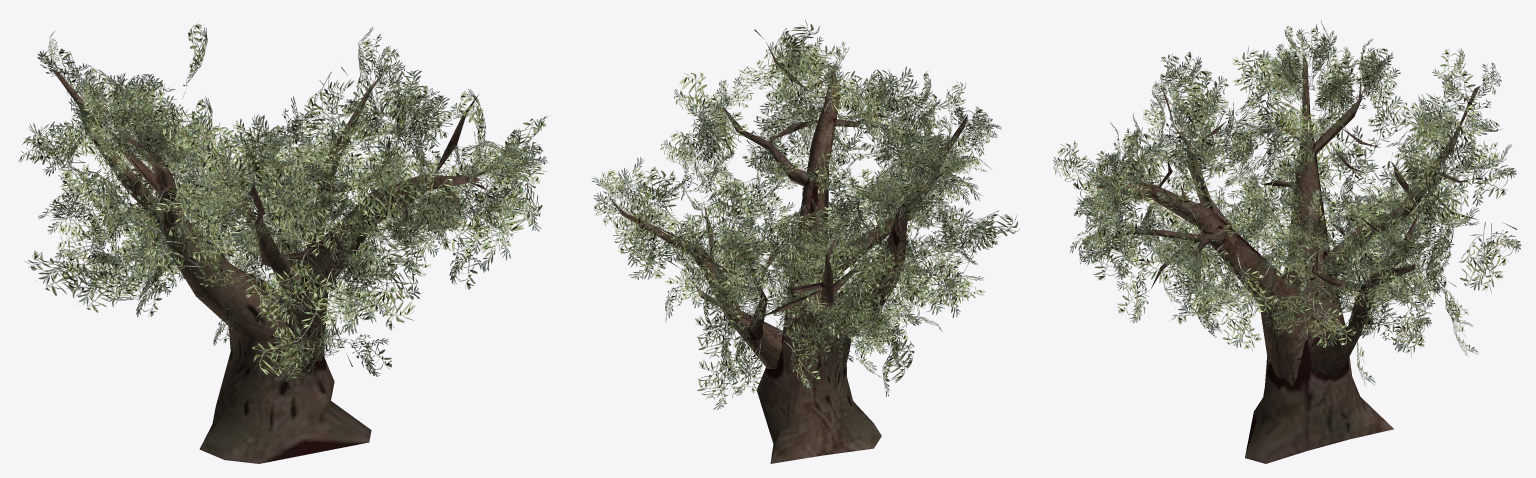
The model's file is oliveira.glb.
3 renders of one model, left to right at view 1: azimuth 30°, elevation 25°; view 2: azimuth 150°, elevation 25°; view 3: azimuth 270°, elevation 25°, orthographic. The views are drawn at different scales.
Visible parts, largest first — view 1: Object_2, Object_3; view 2: Object_2, Object_3; view 3: Object_2, Object_3.
Boxes of the visible parts, box(x1,y1,x2,y2) form: Object_2: box(18, 23, 547, 382); Object_3: box(52, 67, 496, 463); Object_2: box(591, 19, 1019, 409); Object_3: box(611, 29, 967, 463); Object_2: box(1053, 20, 1521, 385); Object_3: box(1082, 54, 1516, 463).
Bounding box in the file's own units: 5.24 × 4.6 × 5.53.
2 materials, 2 textured.
